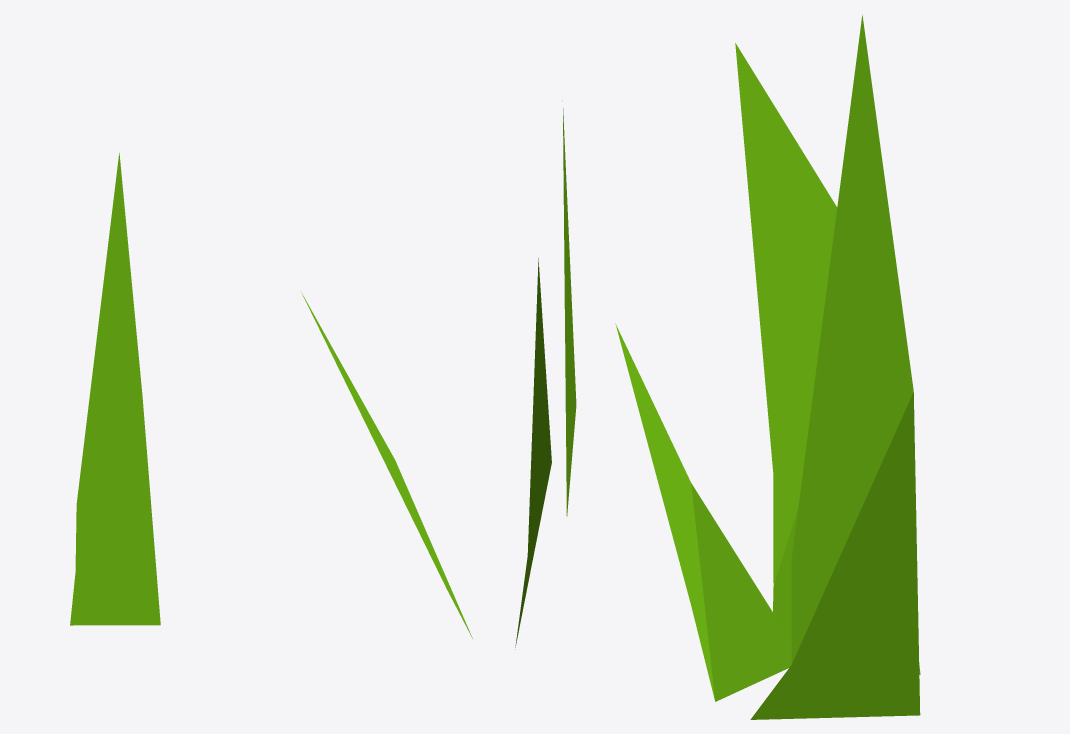
The model's file is Grass by hat_my_guy - 9S0fmIfGPO.glb.
3 renders of one model, left to right at view 1: azimuth 30°, elevation 25°; view 2: azimuth 150°, elevation 25°; view 3: azimuth 270°, elevation 25°, orthographic. The views are drawn at different scales.
Parts seen in each view (by area): view 1: Plane.003; view 2: Plane.002, Plane.001, Plane.003; view 3: Plane, Plane.001, Plane.002.
Boxes of the visible parts, box(x1,y1,x2,y2) form: Plane.003: box(70, 153, 160, 625); Plane.002: box(515, 258, 551, 649); Plane.001: box(562, 100, 576, 516); Plane.003: box(302, 293, 472, 638); Plane: box(750, 15, 920, 719); Plane.001: box(735, 43, 920, 674); Plane.002: box(615, 324, 791, 701).
Bounding box in the file's own units: 3.17 × 9.46 × 5.07.
